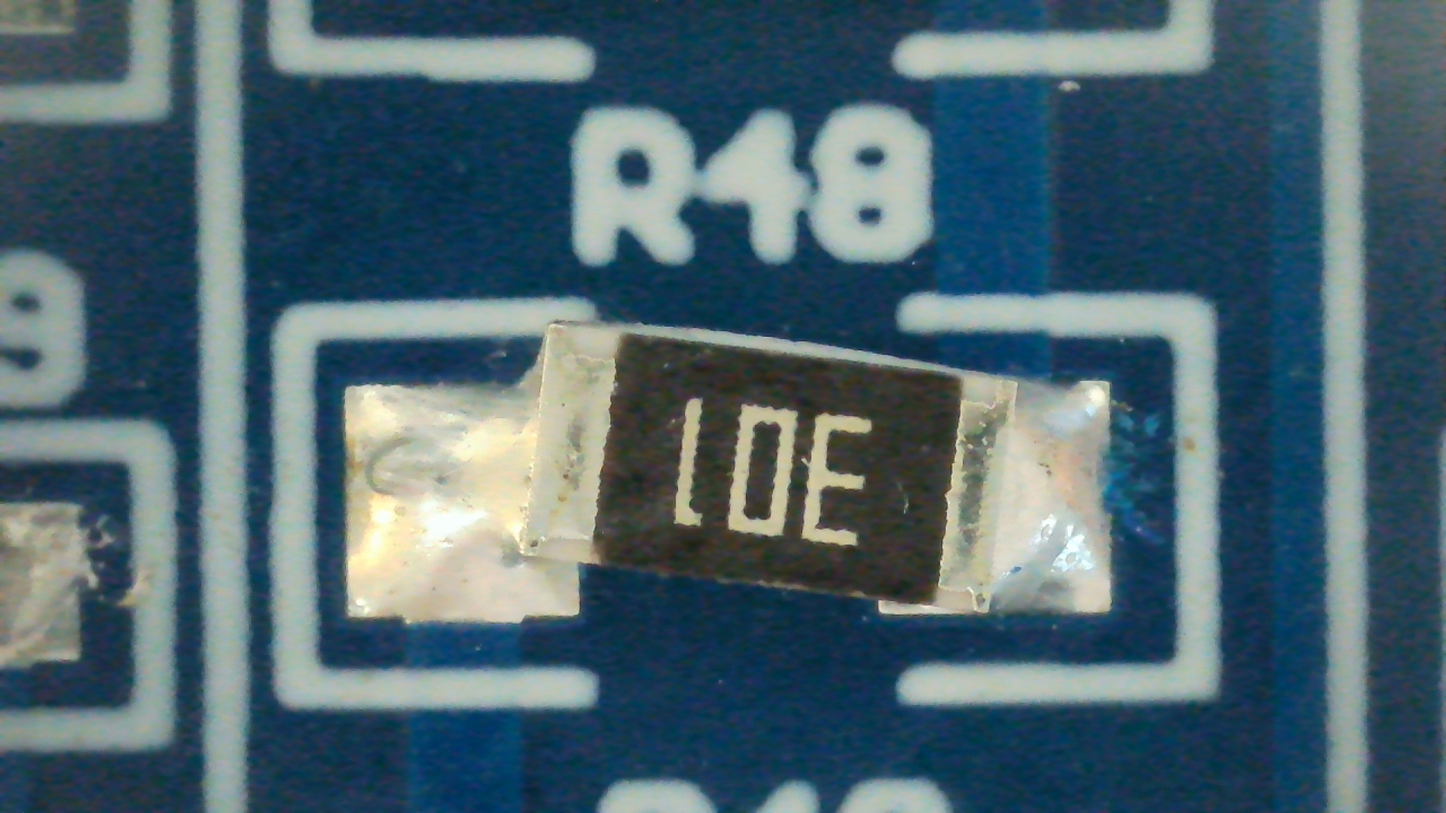NG: (345, 319, 1112, 625)
